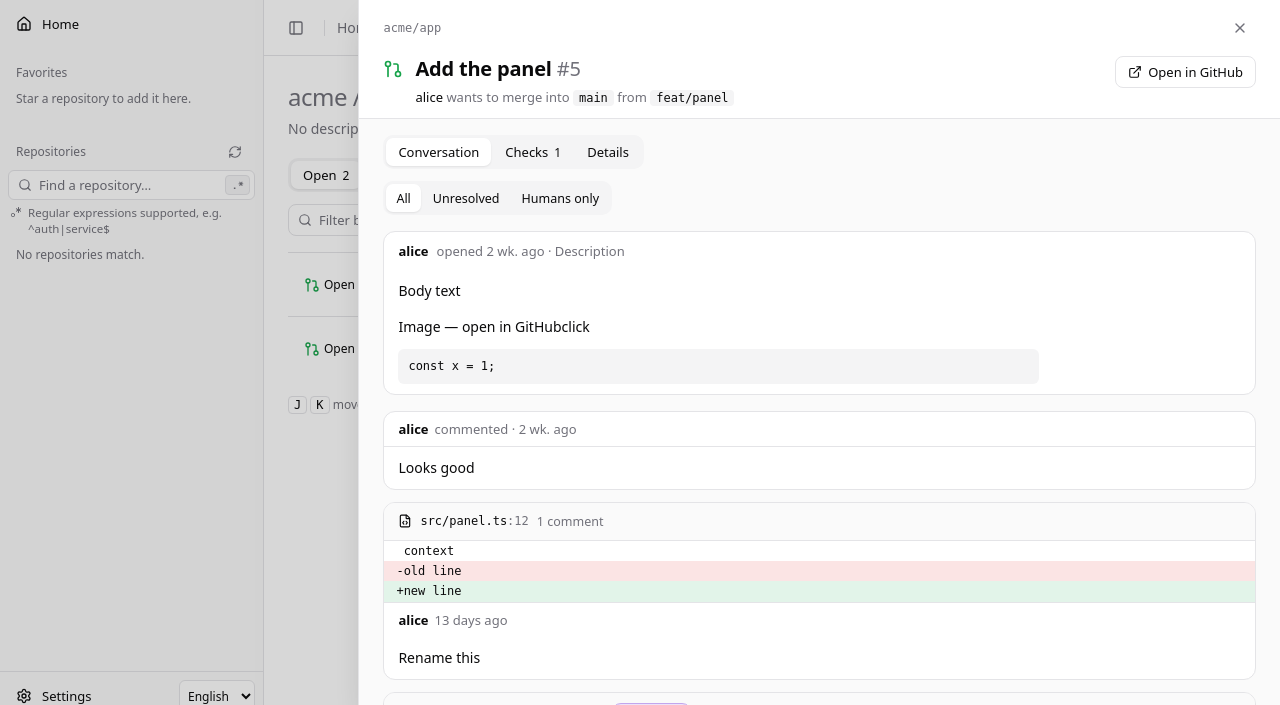
Test: the Checks tab lists runs with status, duration, required flag, output and annotations
Step 1. Click the tab "Checks 1" → (533, 152), box 493,138 -> 573,166
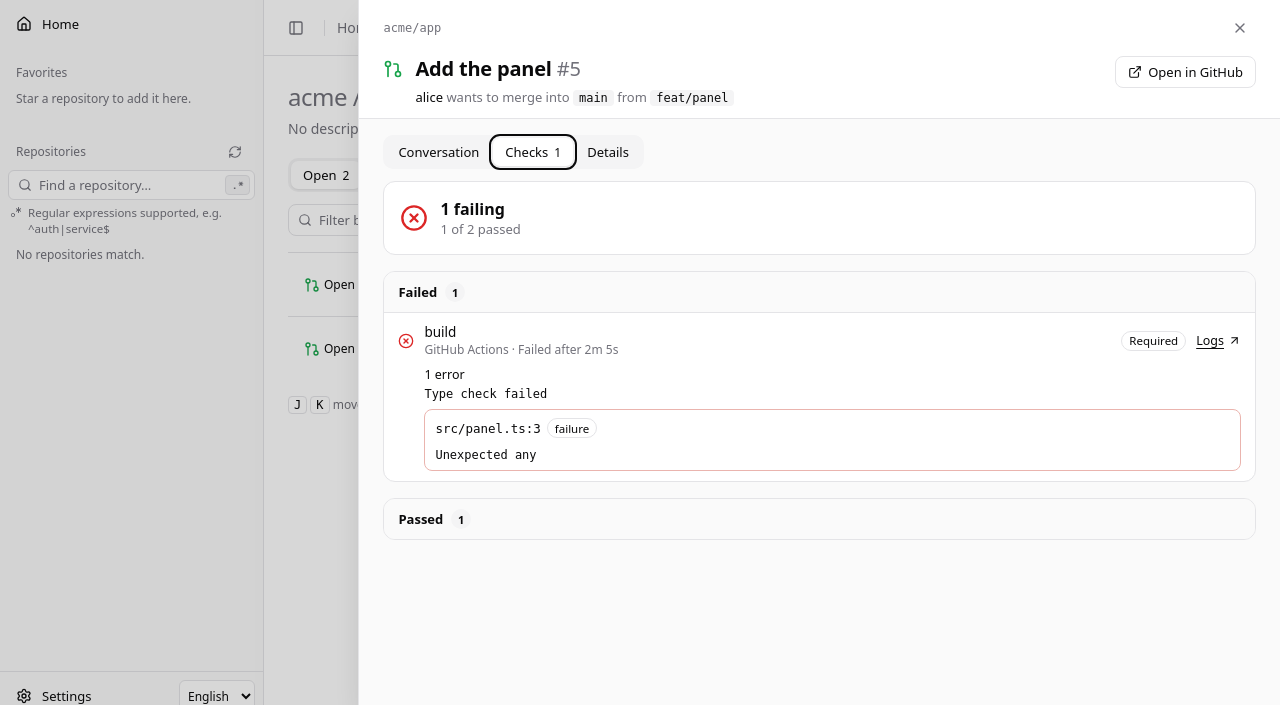
expect the text "1 failing" is shown: met, box 440,198 -> 505,220
expect the text "GitHub Actions · Failed after 2m 5s" is shown: met, box 424,341 -> 618,358
expect the text "Required" is shown: met, box 1121,330 -> 1186,350
